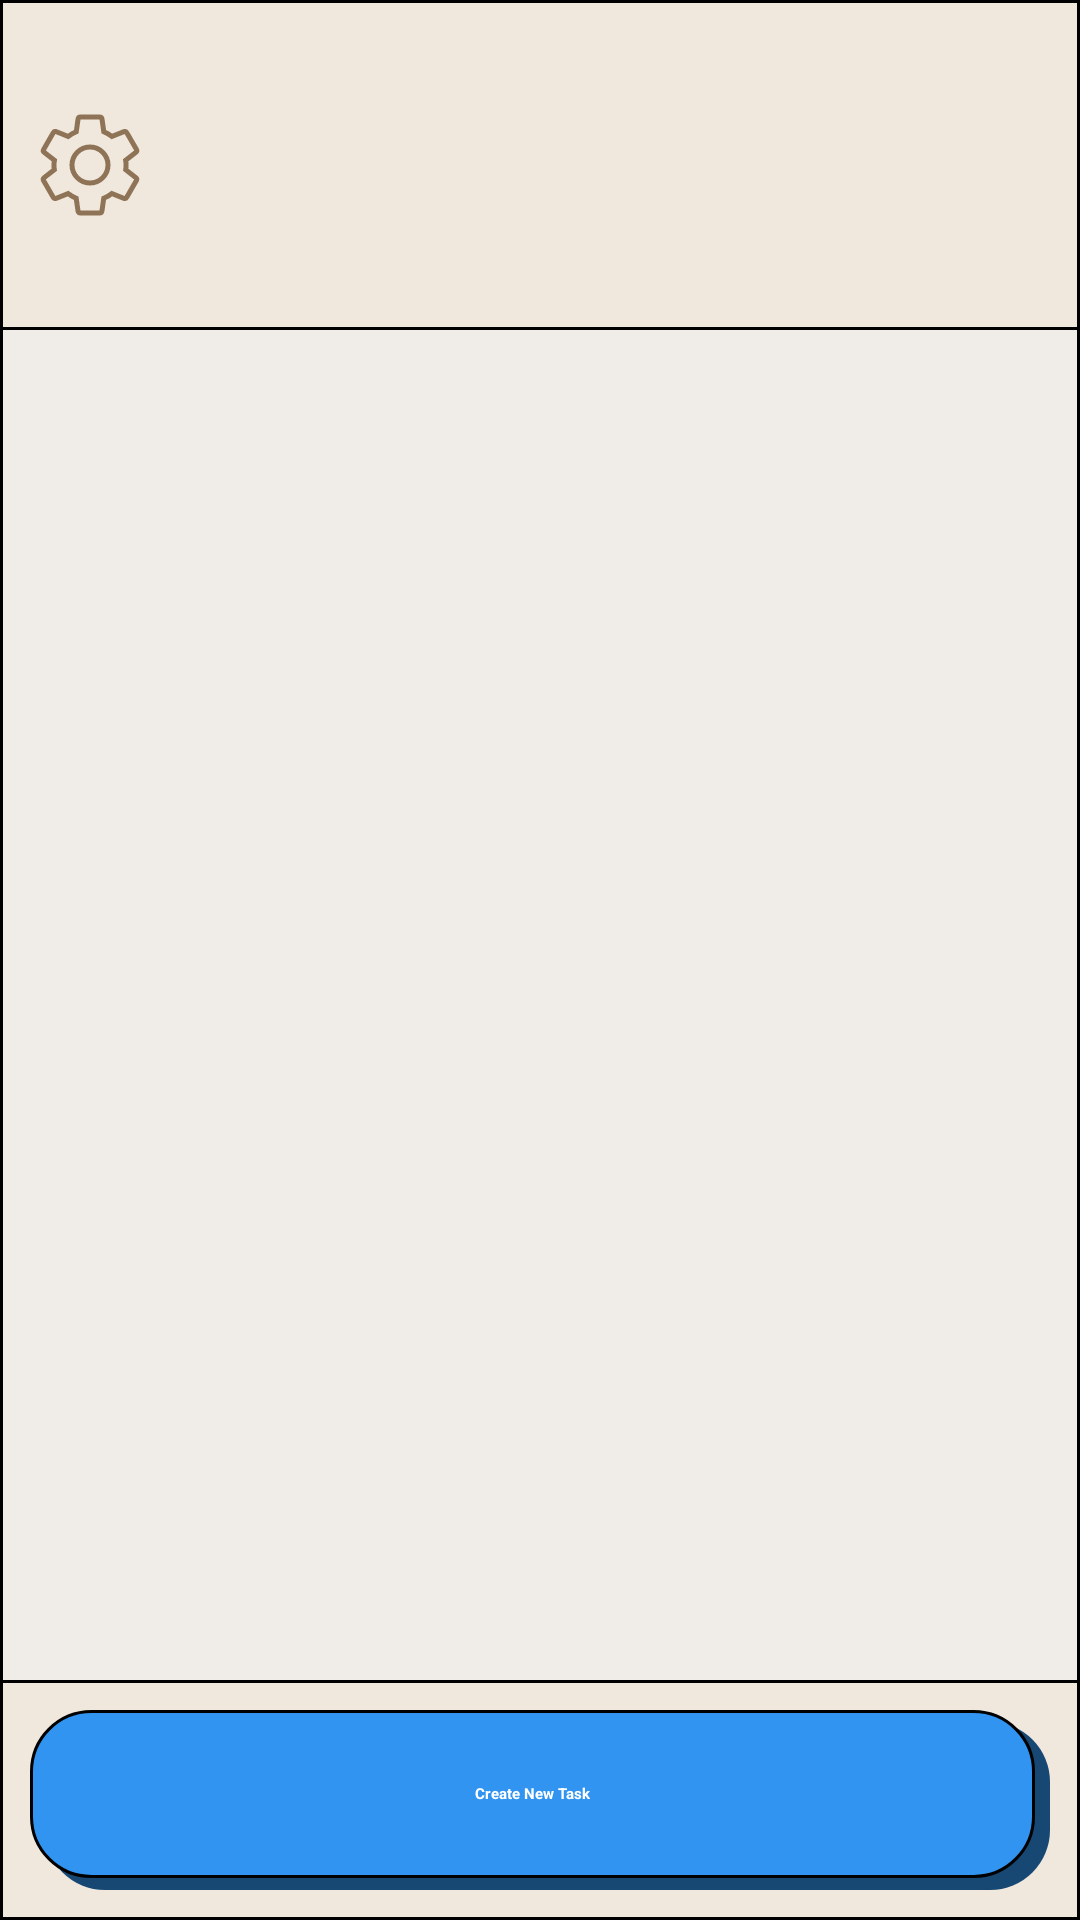

Icon bounding boxes for this 1080x1920 phone screenshot, format (x1, y1, x2, y2):
Settings: (40, 114, 140, 216)
